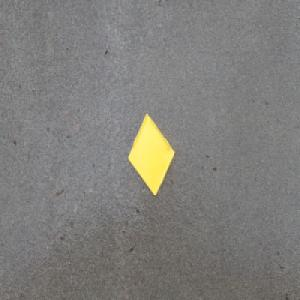PlasticPart: (127, 111, 175, 197)
